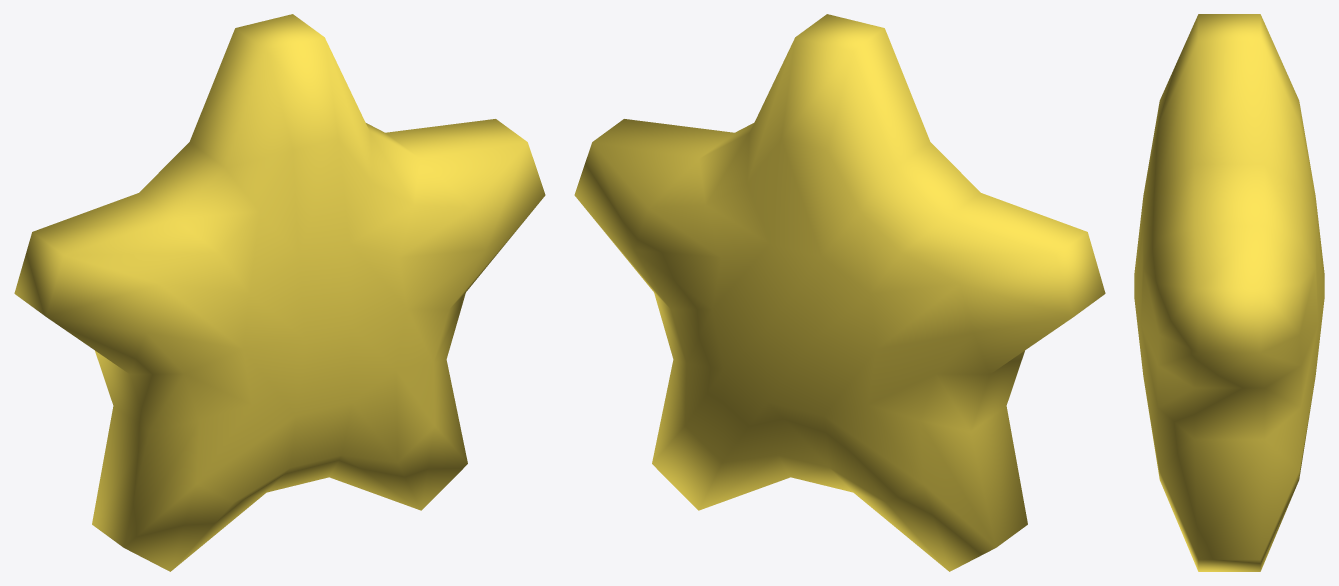
File: Sea_star_2.fbx
3 renders of one model, left to right at view 1: azimuth 30°, elevation 25°; view 2: azimuth 150°, elevation 25°; view 3: azimuth 270°, elevation 25°, orthographic. The views are drawn at different scales.
Parts seen in each view (by area): view 1: Sea_star_2; view 2: Sea_star_2; view 3: Sea_star_2.
Part boxes in pixels (x1,y1,x2,y2): Sea_star_2: (14, 14, 545, 571); Sea_star_2: (574, 14, 1105, 571); Sea_star_2: (1134, 14, 1324, 571).
Bounding box in the file's own units: 0.8988 × 0.8548 × 0.3045.
